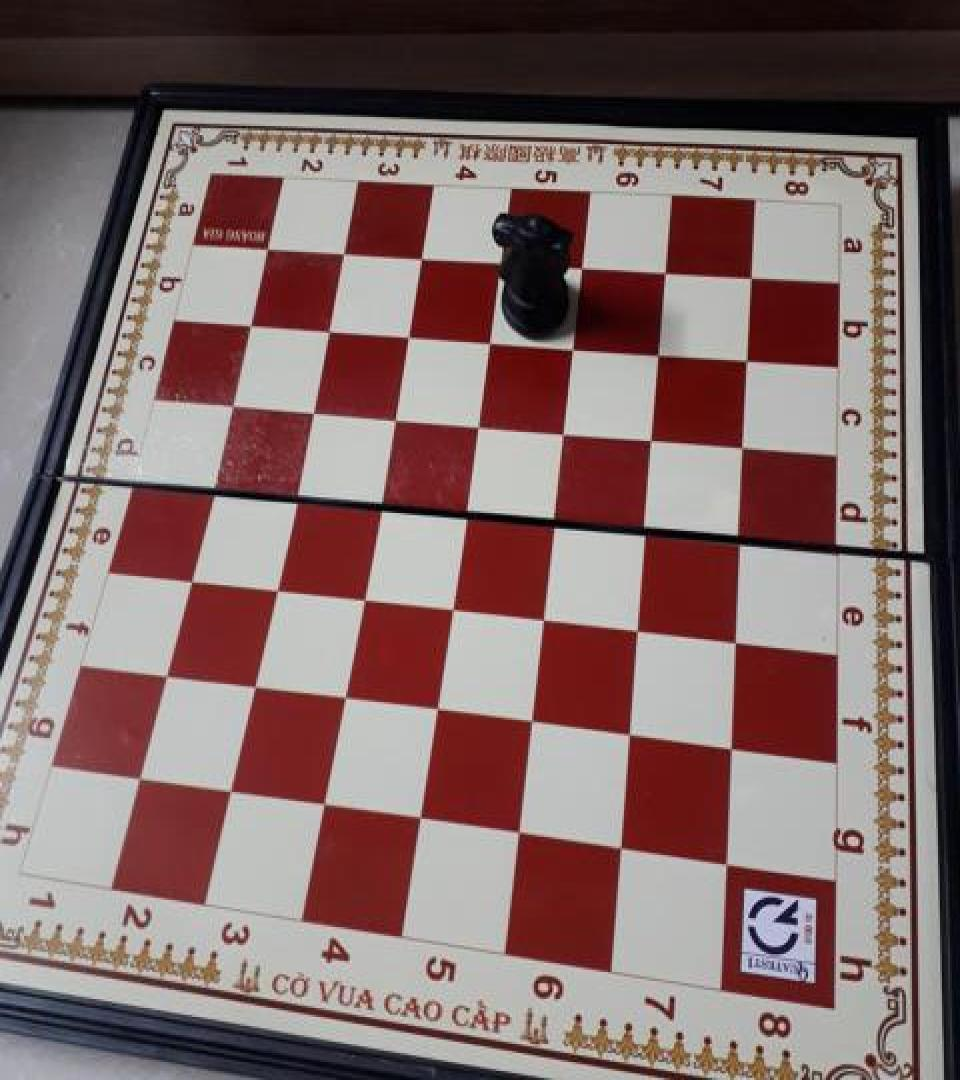xcorner: (404, 237, 438, 276), (536, 499, 570, 538), (620, 606, 654, 645), (732, 258, 766, 296), (647, 253, 681, 291), (564, 248, 598, 286), (483, 243, 517, 281), (327, 233, 361, 271), (252, 228, 286, 266), (729, 339, 763, 377), (641, 332, 675, 370), (555, 326, 589, 364), (472, 320, 506, 358), (391, 314, 425, 352), (311, 308, 345, 346), (233, 303, 267, 341), (725, 426, 759, 464), (634, 418, 668, 456), (546, 410, 580, 448), (460, 403, 494, 441), (376, 395, 410, 433), (294, 388, 328, 426), (214, 382, 248, 420), (721, 518, 755, 556), (627, 508, 661, 546), (447, 490, 481, 528), (360, 483, 394, 521), (276, 474, 310, 512), (193, 466, 227, 504), (717, 618, 751, 656), (525, 596, 559, 634), (433, 585, 467, 623), (343, 575, 377, 613), (256, 566, 290, 604), (171, 556, 205, 594), (713, 724, 747, 762), (612, 712, 646, 750), (513, 700, 547, 738), (418, 688, 452, 726), (325, 675, 359, 713), (235, 664, 269, 702), (147, 652, 181, 690), (708, 842, 742, 880), (603, 826, 637, 864), (501, 811, 535, 849), (402, 796, 436, 834), (306, 783, 340, 821), (213, 770, 247, 808), (122, 756, 156, 794)
